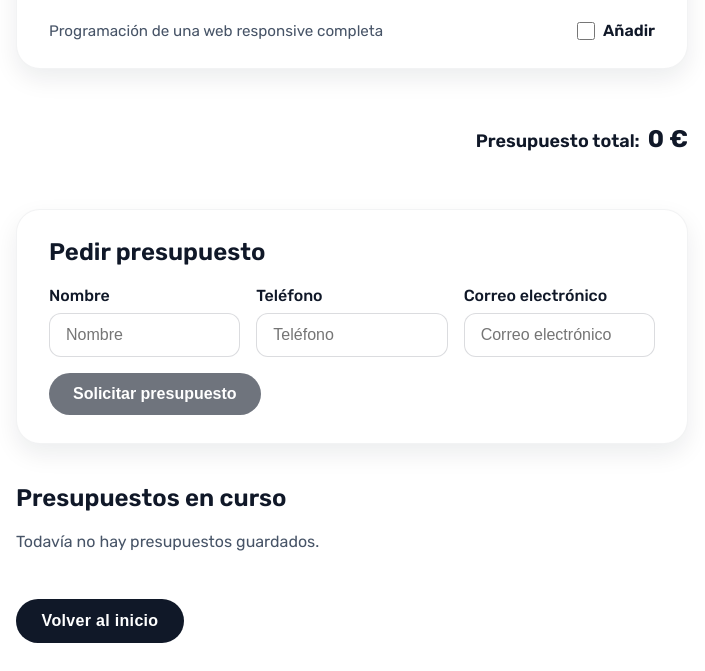
valid inputs and a selected service enable submit button
The width and height of the screenshot is (705, 671).
(page scrolled)
Check: the button "Solicitar presupuesto" is disabled, box [49,373,261,415]
In the field with placeholder "Nombre": (145, 335) [49,313,240,357], type "Kevin Larriega"
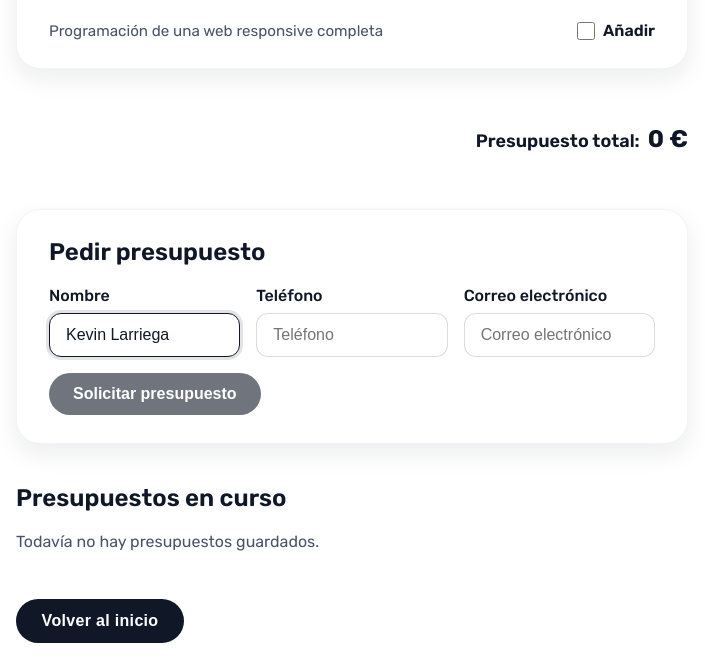
In the field with placeholder "Teléfono": (352, 335) [256,313,448,357], type "123456789"
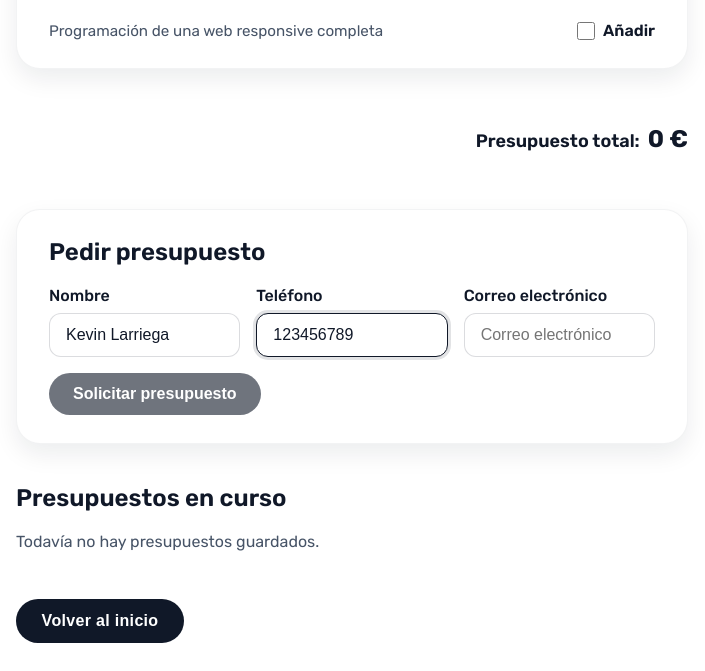
In the field with placeholder "Correo electrónico": (559, 335) [464,313,655,357], type "kevin@example.com"
(page scrolled)
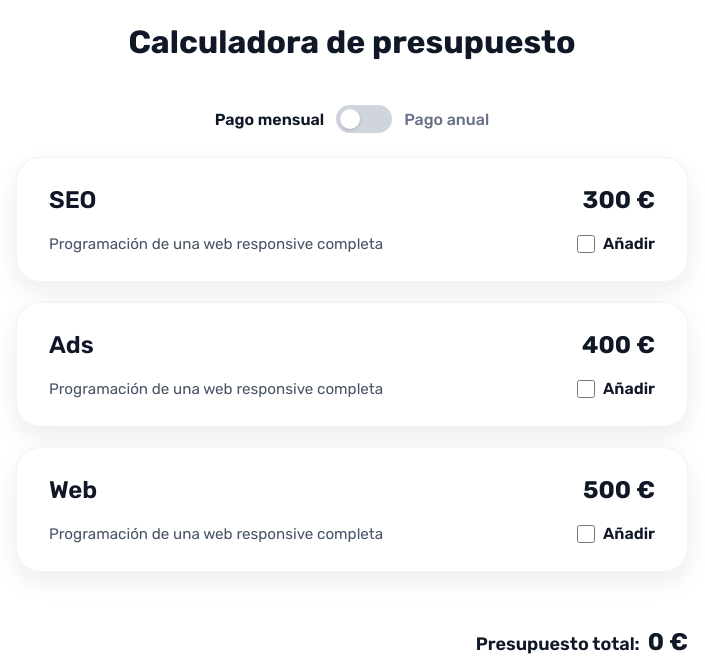
Click the checkbox labelled "Añadir" below "300 €": (586, 244) [577,234,595,252]
(page scrolled)
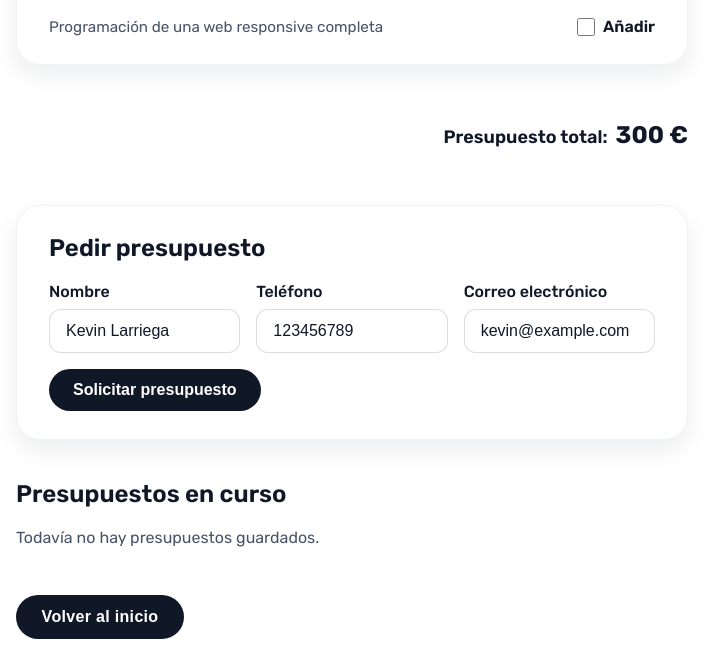
Check: the button "Solicitar presupuesto" is enabled, box [49,369,261,411]
